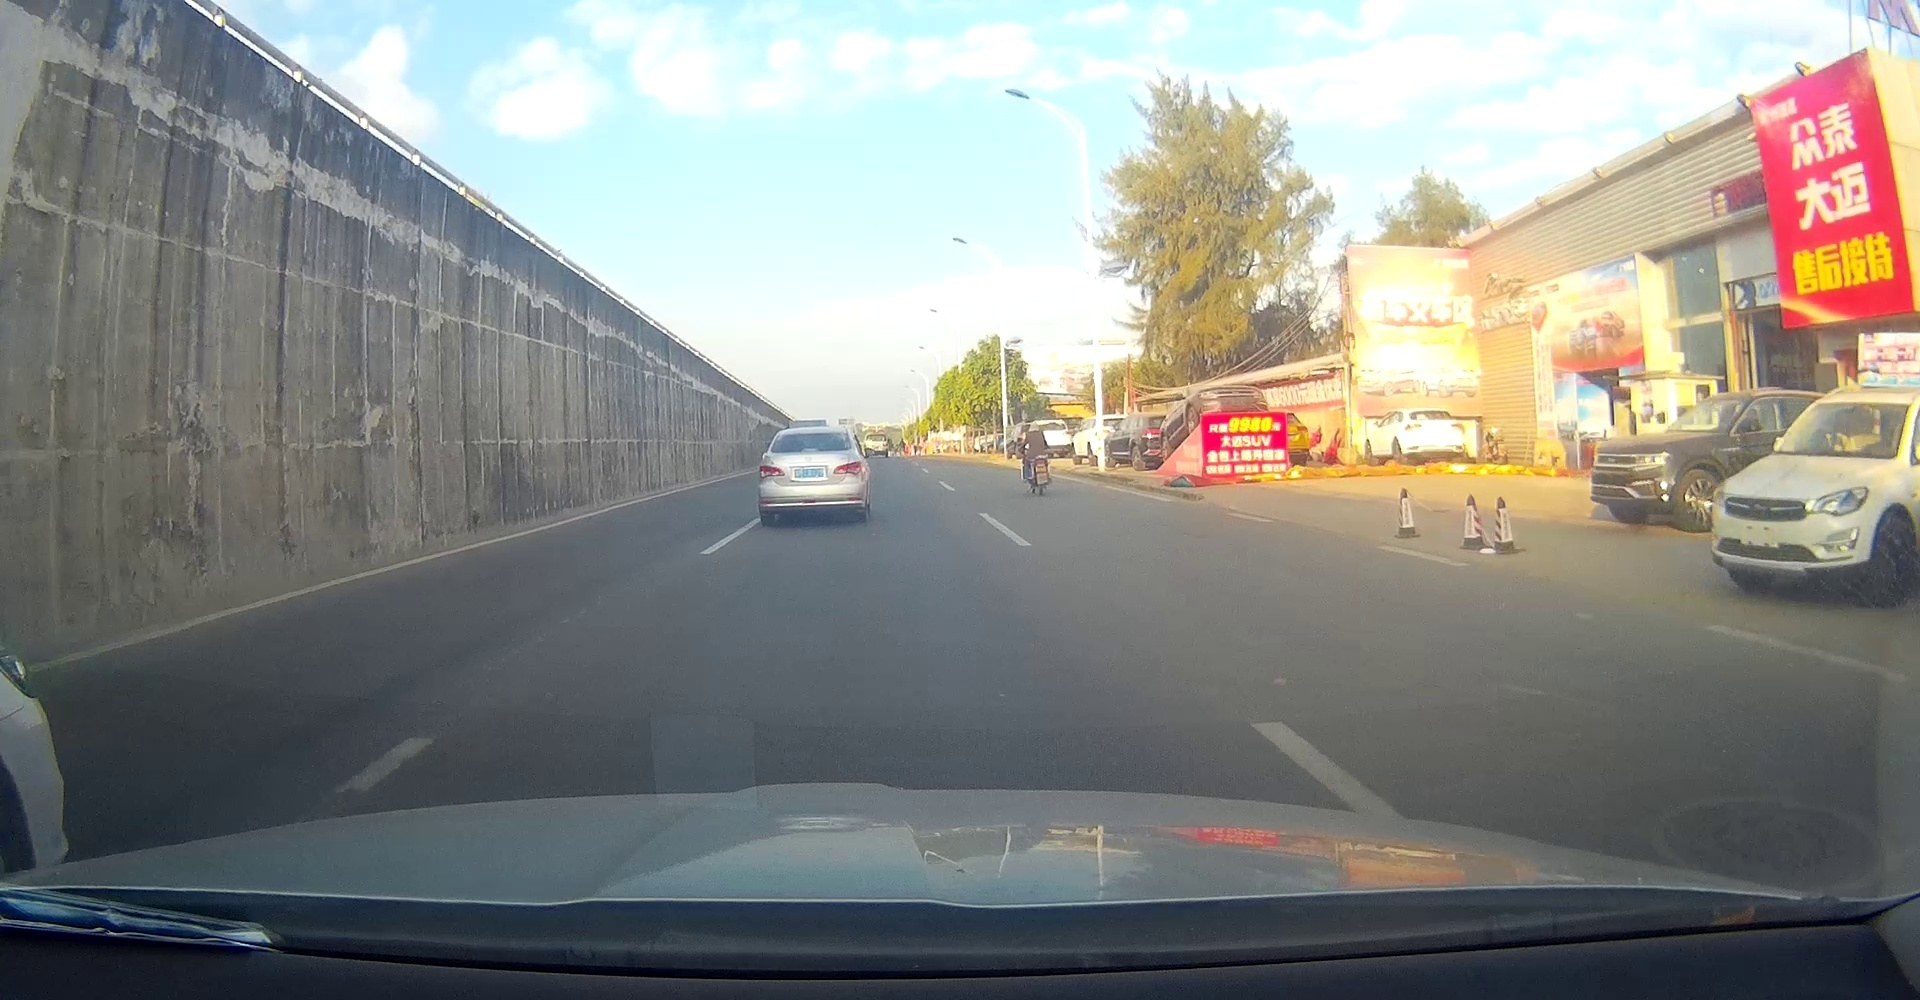L_light: (759, 464, 785, 478), (1404, 423, 1421, 431)
R_light: (832, 461, 862, 475), (1451, 423, 1464, 433)
T_light: (803, 447, 818, 452), (1427, 411, 1437, 412)
day-no: (757, 426, 867, 525), (1403, 409, 1465, 464)
